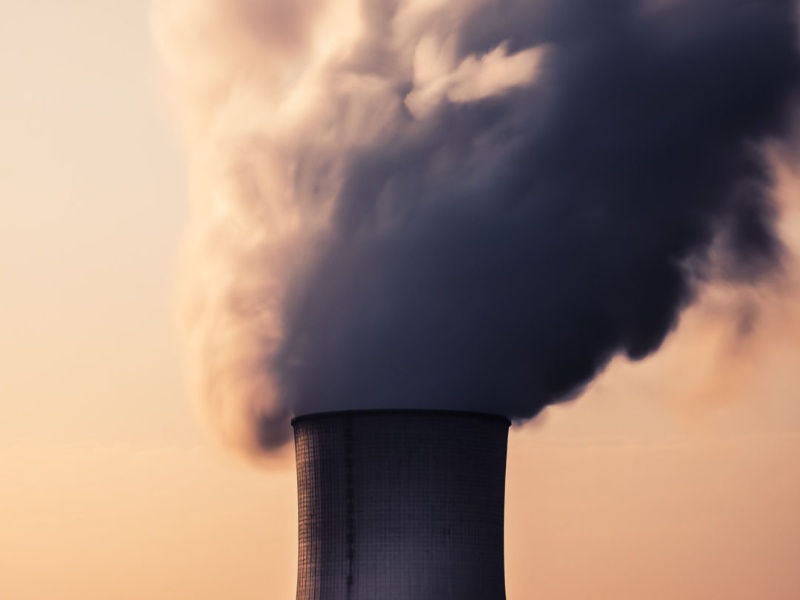smoke: (270, 4, 572, 396)
